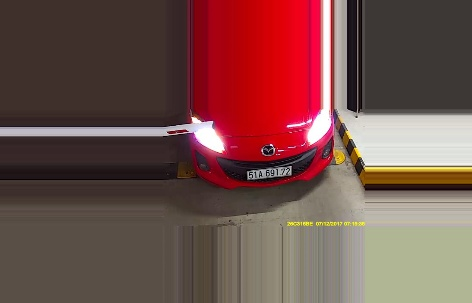plate: (246, 166, 293, 178)
